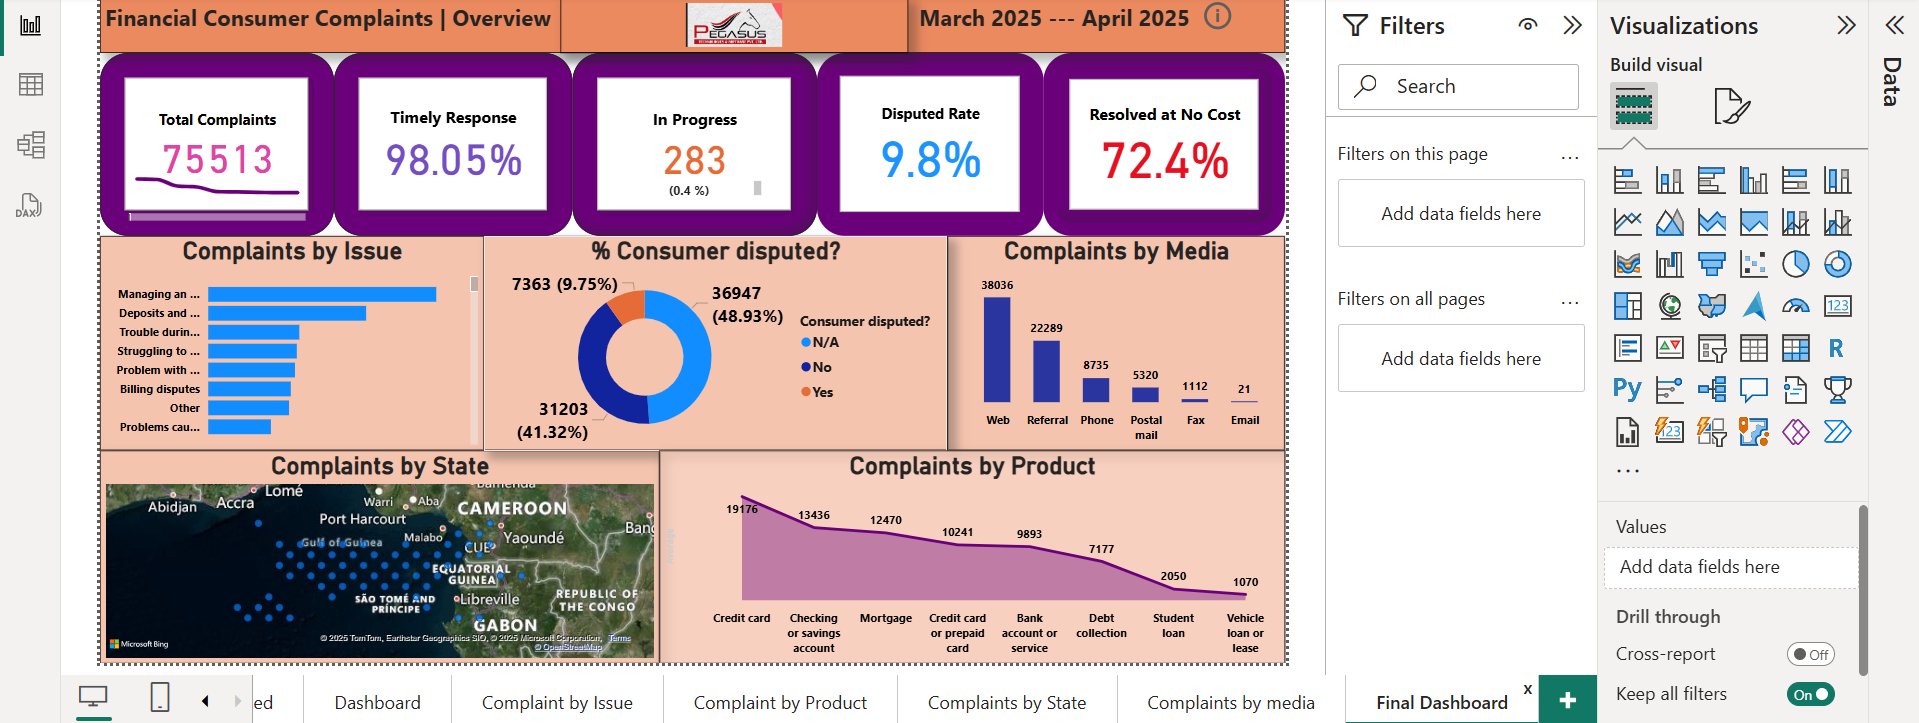

The dashboard page shown, as its layout file describes it:
{"tool":"powerbi","page":{"name":"Final Dashboard ","canvas":[1280,720],"ordinal":6},"visuals":[{"type":"barChart","title":"Complaints by Issue","fields":{"Category":["Financial Consumer Complaints.Issue"],"Y":["CountNonNull(Financial Consumer Complaints.Sub-issue)"]},"box":[0,259.1,414.5,231.5],"z":0},{"type":"map","title":"Complaints by State ","fields":{"Category":["State Mappings.State","State Mappings.State abbr"],"Y":["Avg(State Mappings.yPosition)"],"X":["Avg(State Mappings.xPosition)"]},"box":[0,490.6,604,229.9],"z":1000},{"type":"columnChart","title":"Complaints by Media ","fields":{"Category":["Financial Consumer Complaints.Submitted via"],"Y":["Financial Consumer Complaints.Total Complaints"]},"box":[914.9,259.1,364.3,231.5],"z":2000},{"type":"donutChart","title":"% Consumer disputed?","fields":{"Category":["Financial Consumer Complaints.Consumer disputed?"],"Y":["Financial Consumer Complaints.Total Complaints"]},"box":[414.5,259.1,500.3,231.5],"z":3000},{"type":"cardVisual","fields":{"Data":["CountNonNull(Financial Consumer Complaints.Complaint ID)"]},"box":[0,61.5,252.6,197.5],"z":4000},{"type":"cardVisual","title":"Total Complaints ","fields":{"Data":["Financial Consumer Complaints.Timely Response"]},"box":[252.6,61.5,257.5,197.5],"z":5000},{"type":"cardVisual","title":"Total Complaints ","fields":{"Data":["Financial Consumer Complaints.In Progress"]},"box":[510.1,61.5,263.9,197.5],"z":6000},{"type":"cardVisual","fields":{"Data":["Financial Consumer Complaints.Resolved at No Cost Percentage"]},"box":[1018.5,61.5,260.7,197.5],"z":7000},{"type":"cardVisual","fields":{"Data":["Financial Consumer Complaints.Consumer Disputed Rate"]},"box":[774,61.5,244.5,197.5],"z":8000},{"type":"areaChart","title":"Complaints by Product","fields":{"Category":["Financial Consumer Complaints.Product"],"Y":["Financial Consumer Complaints.Total Complaints"]},"box":[604,490.6,675.2,229.9],"z":9000},{"type":"textbox","box":[0,0,1279.4,61.1],"z":10000},{"type":"image","box":[497.1,1.6,375.7,59.9],"z":11000},{"type":"actionButton","box":[1186.3,1.5,93.2,39.3],"z":12000},{"type":"textbox","box":[561.9,194.3,157.1,25.9],"z":13000},{"type":"lineChart","fields":{"Category":["Financial Consumer Complaints.Date Sumbited"],"Y":["Financial Consumer Complaints.Monthly Complaints"]},"box":[25.9,176.5,200.8,71.2],"z":15000}]}

Visuals, with their boxes on the page's 1280x720 design canvas (x1, y1, x2, y2). These are canvas units, not pixel positions in the 1919x723 screenshot, which may show the page scaled, cropped or inside an application window:
"Complaints by Issue" barChart: [0,259,414,491]
"Complaints by State " map: [0,491,604,720]
"Complaints by Media " columnChart: [915,259,1279,491]
"% Consumer disputed?" donutChart: [414,259,915,491]
cardVisual - CountNonNull(Financial Consumer Complaints.Complaint ID): [0,62,253,259]
"Total Complaints " cardVisual: [253,62,510,259]
"Total Complaints " cardVisual: [510,62,774,259]
cardVisual - Financial Consumer Complaints.Resolved at No Cost Percentage: [1018,62,1279,259]
cardVisual - Financial Consumer Complaints.Consumer Disputed Rate: [774,62,1018,259]
"Complaints by Product" areaChart: [604,491,1279,720]
textbox: [0,0,1279,61]
image: [497,2,873,62]
actionButton: [1186,2,1280,41]
textbox: [562,194,719,220]
lineChart - Financial Consumer Complaints.Date Sumbited x Financial Consumer Complaints.Monthly Complaints: [26,176,227,248]
